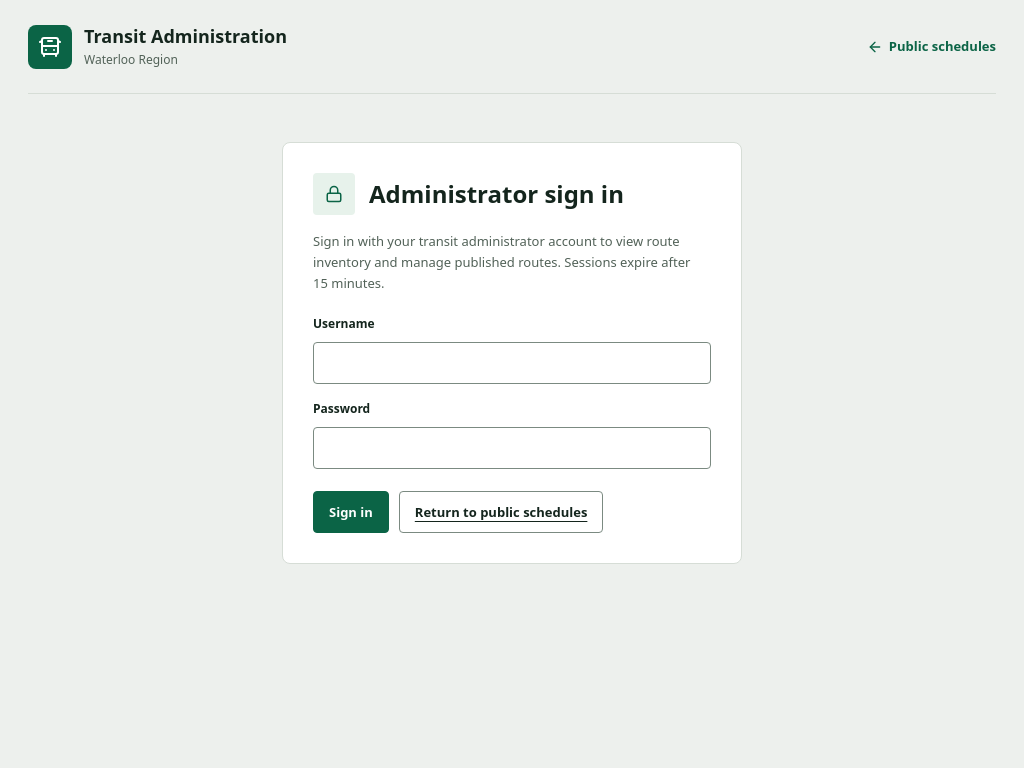
Test: signs in an administrator, reaches dashboard, and falls back safely on unsafe next path
The width and height of the screenshot is (1024, 768).
In the field labelled "Username": {"x": 512, "y": 363} left=313, top=342, right=711, bottom=384, type "transit.admin"
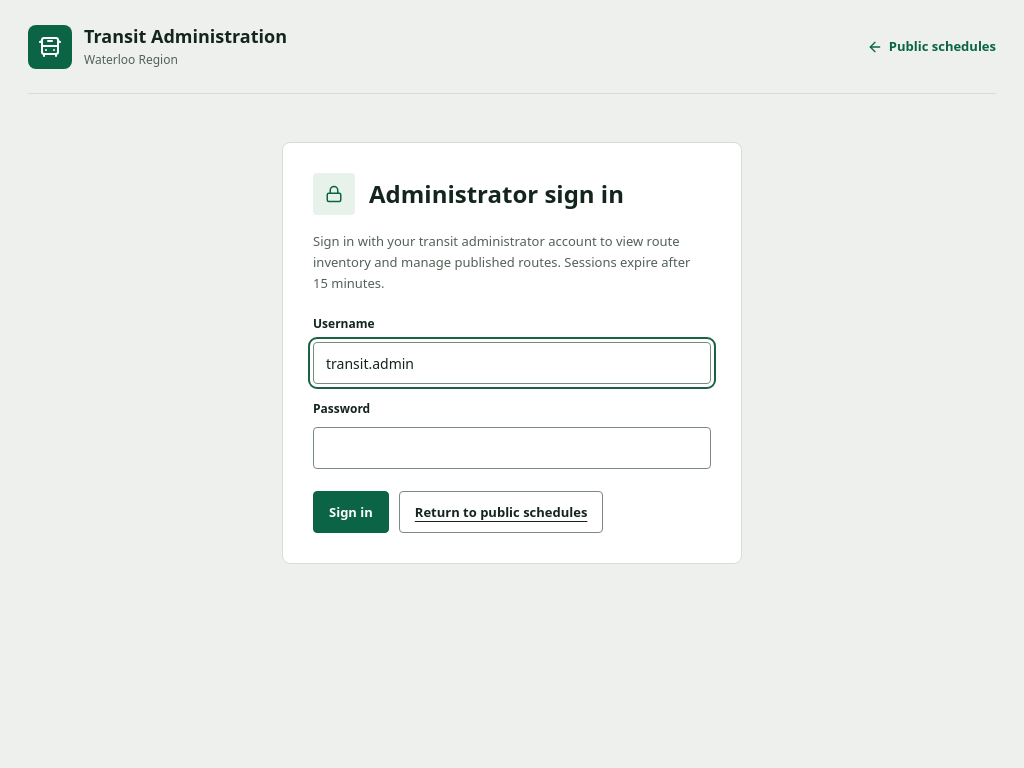
In the password field labelled "Password": {"x": 512, "y": 448} left=313, top=427, right=711, bottom=469, type "admin-password"
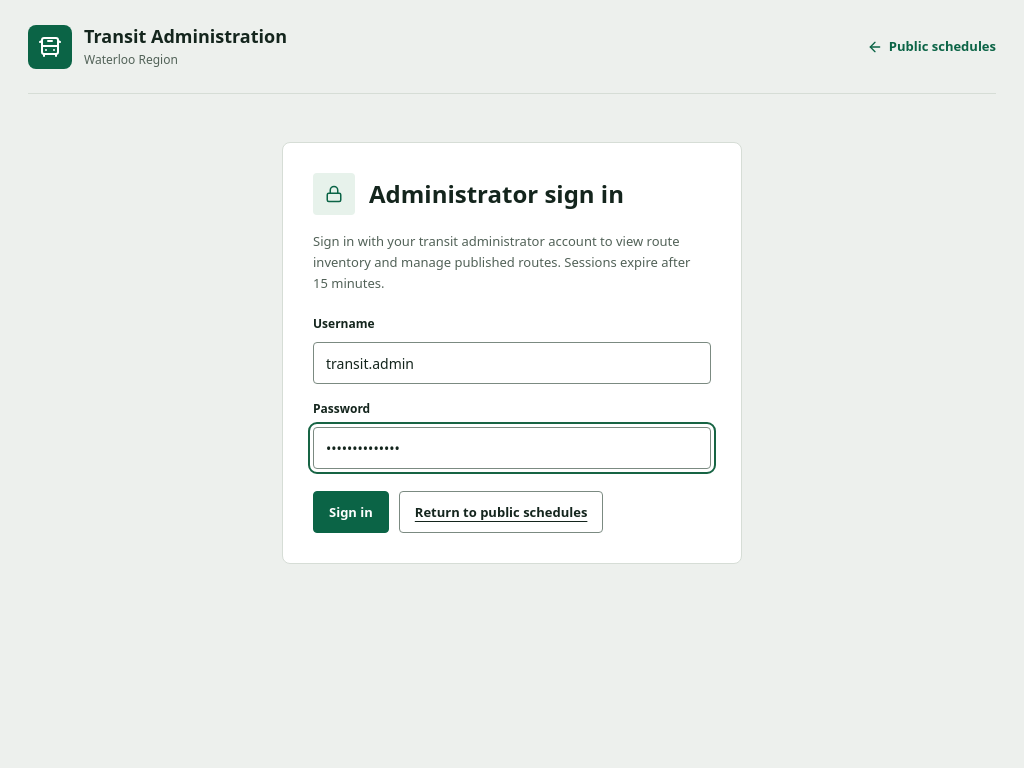
Click the button "Sign in": {"x": 351, "y": 512} left=313, top=491, right=389, bottom=533
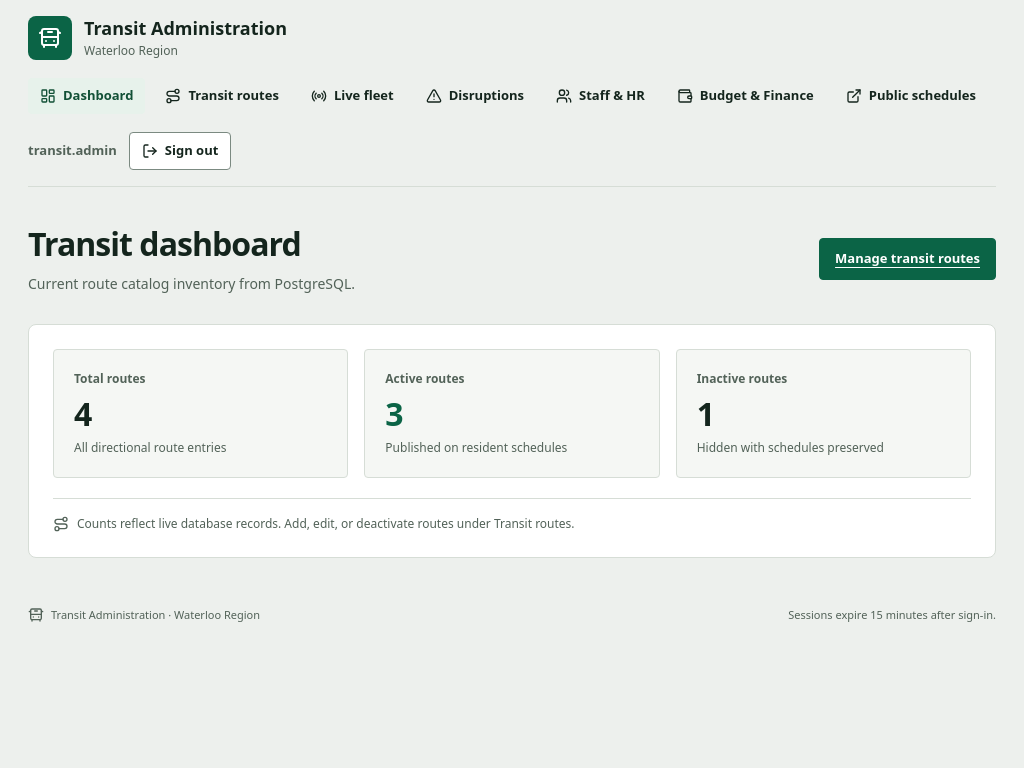
Check: the heading "Transit dashboard" is shown, box left=28, top=222, right=301, bottom=264
Check: the text "4" is shown, box left=74, top=392, right=92, bottom=435
Check: the text "3" is shown, box left=385, top=392, right=404, bottom=435
